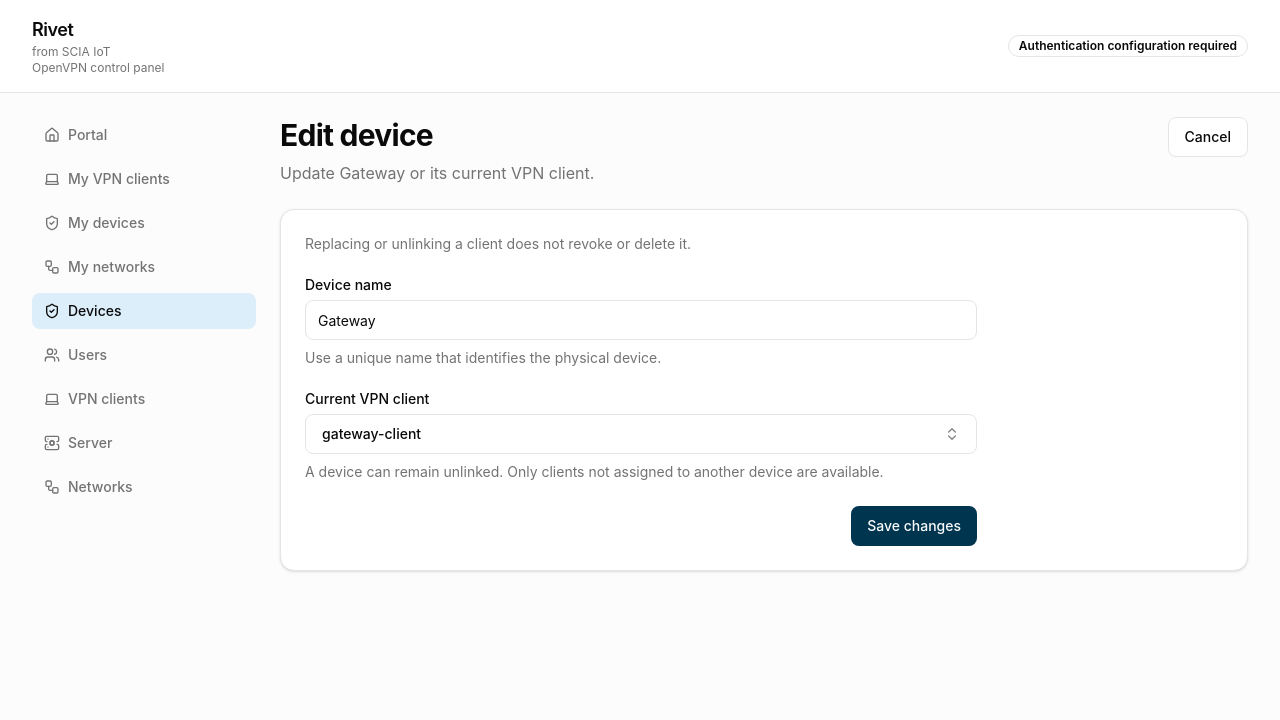
Scenario: device administration pages › keeps edit state after unknown client failure
The image size is (1280, 720).
Replace the text in the field labelled "Device name" with "Renamed gateway" at (641,320), box [305,300,977,340]
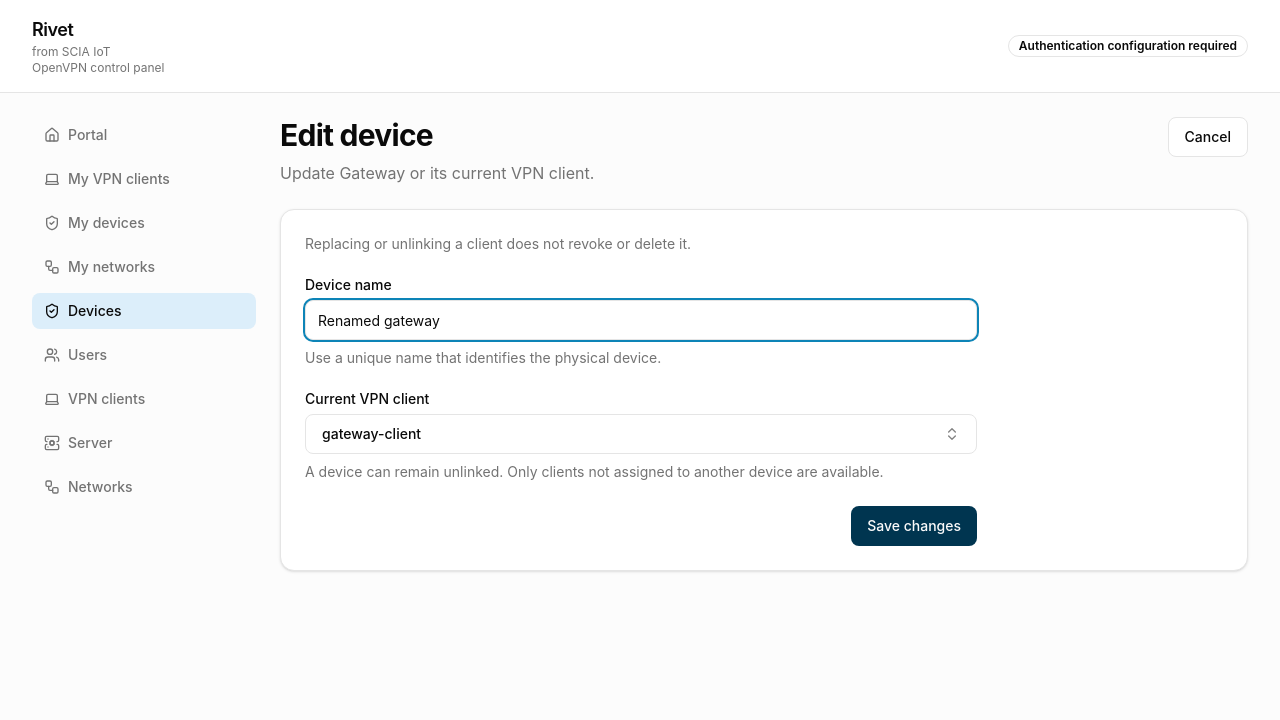
Click the dropdown named "Current VPN client" at (372,434), box [305,414,977,454]
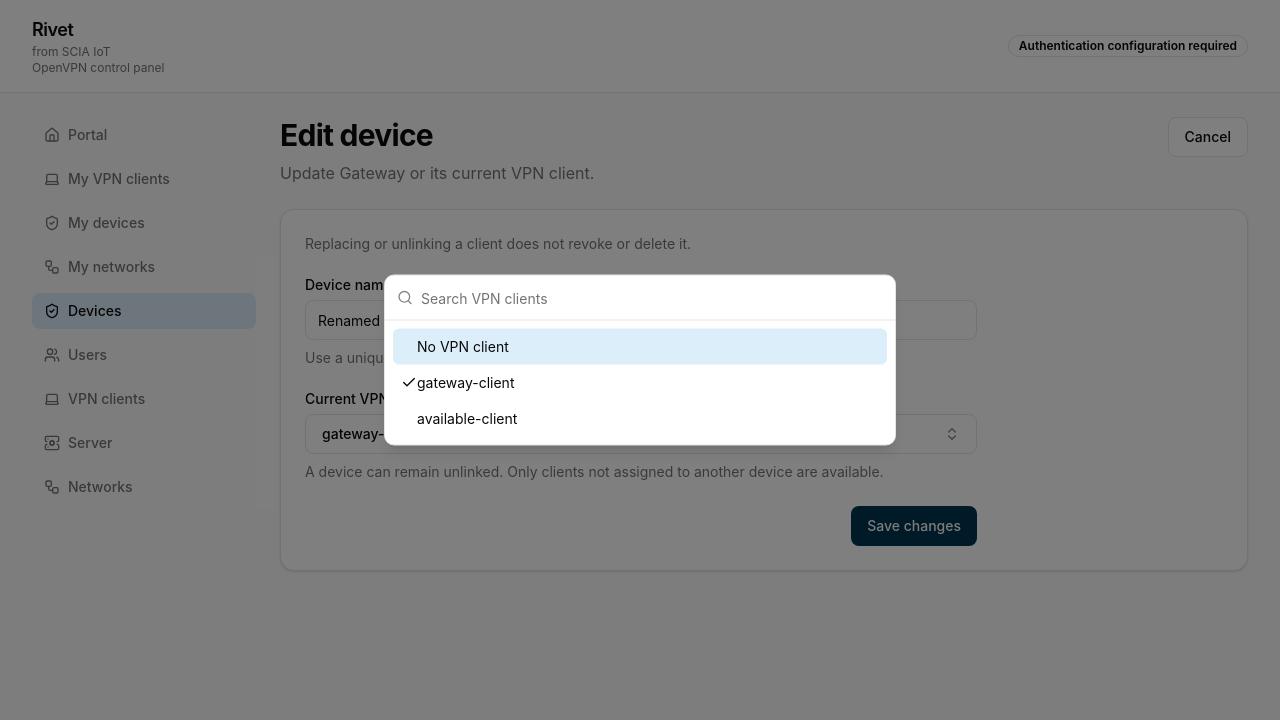
Click the option "available-client" at (467,418), box [417,410,517,426]
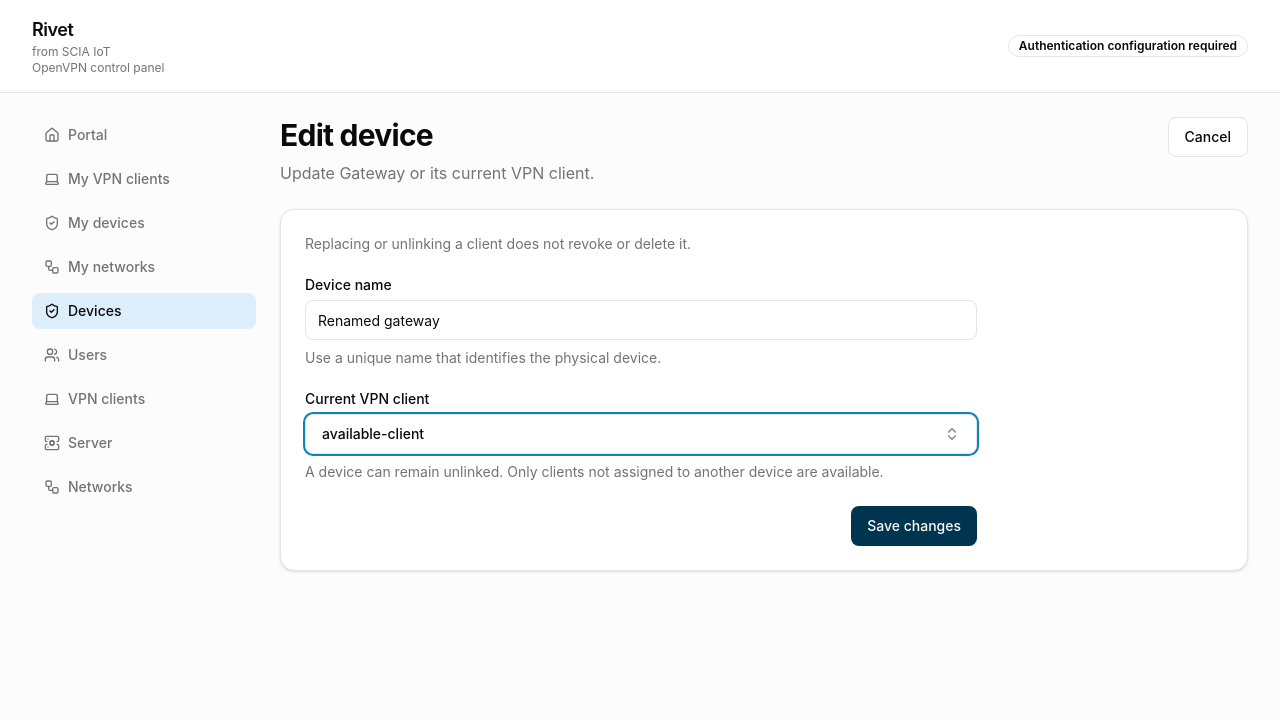
Click the button "Save changes" at (914,526), box [851,506,977,546]
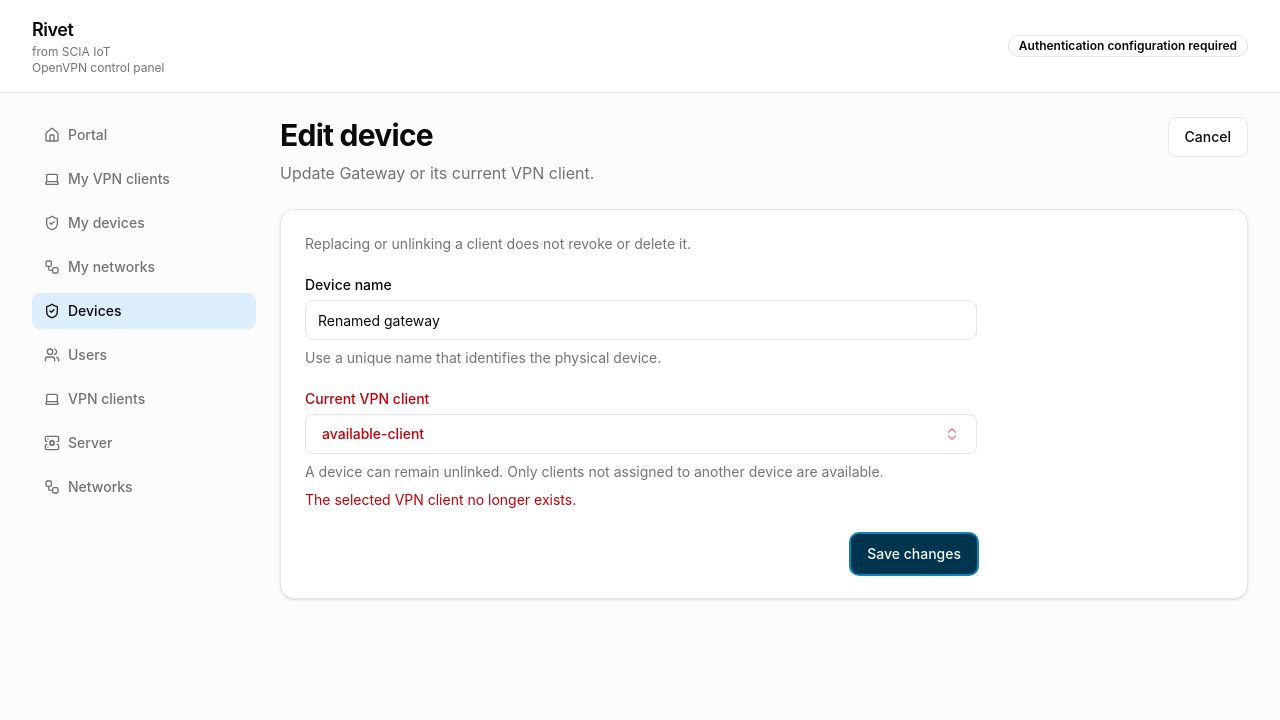
Expected: the heading "Edit device" is shown, [280,117,433,153]
Result: the dropdown named "Current VPN client" reads "available-client" at [305,414,977,454]
Result: the text "The selected VPN client no longer exists." is shown at [305,491,576,508]
